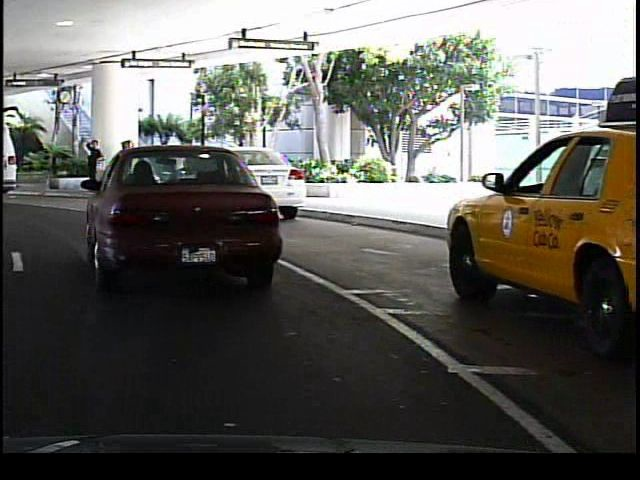person: (161, 143, 189, 194), (77, 138, 101, 195), (114, 139, 138, 195)
